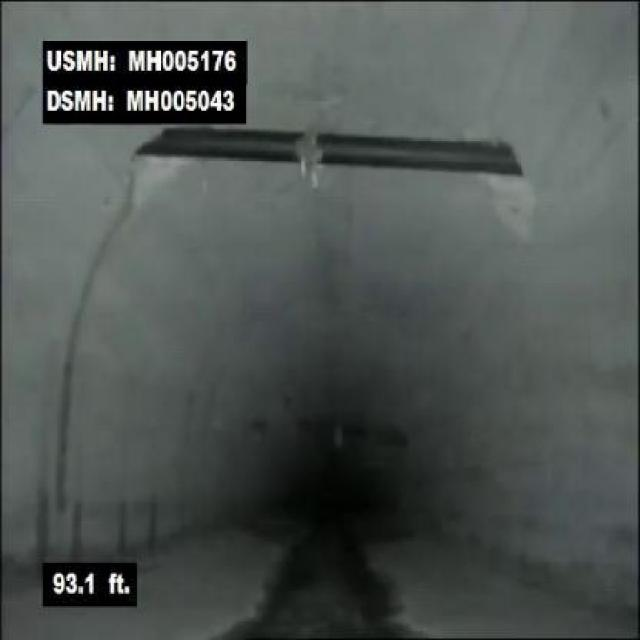Utility intrusion: (136, 121, 526, 177)
